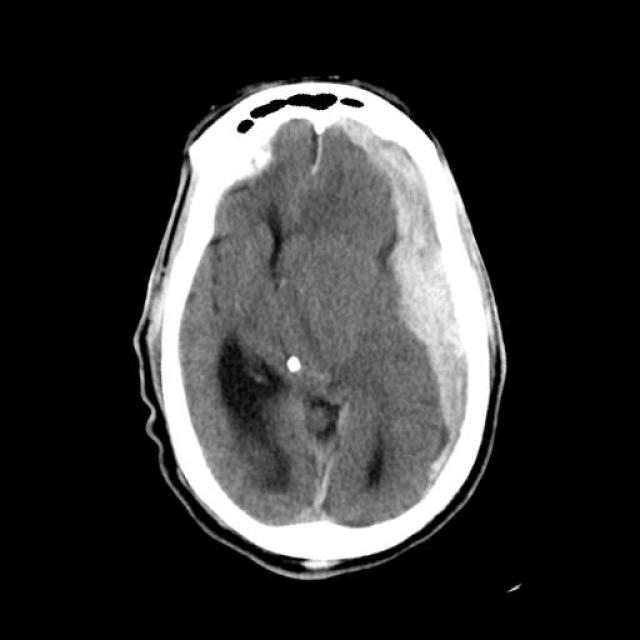Subdural: (292, 77, 574, 516)
